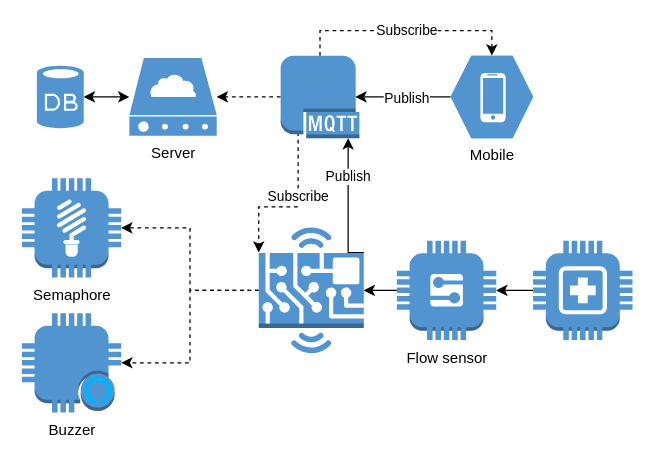
Image size: 665x460. Some labels were removed from this diagram. The shapes that lost their labels are listed below. From the top down, each one's centre as x and y in pixels, then its label:
At [59,96]: "Database".
At [311,289]: "ESP8266 (Nodemcu)".
At [582,289]: "Ventilator (RMVS)".
